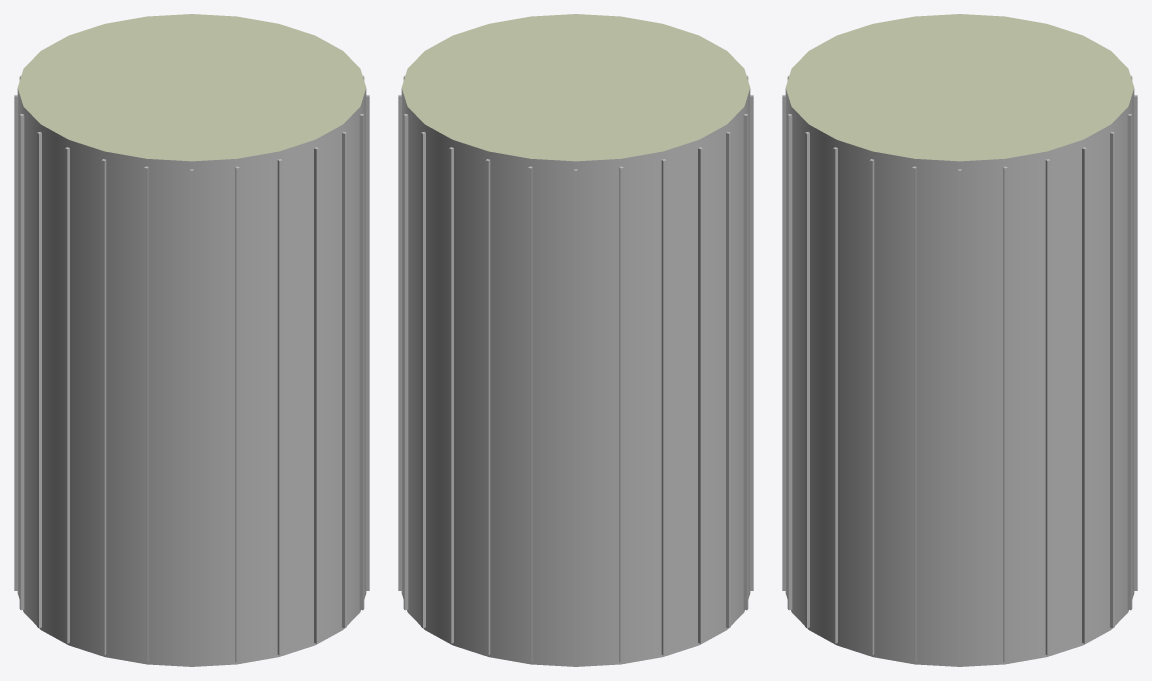
The model's file is ruby_engine_mount_s2_s1p2_2.obj.
The picture shows the model from 3 angles, left to right: view 1: azimuth 30°, elevation 25°; view 2: azimuth 150°, elevation 25°; view 3: azimuth 270°, elevation 25°; orthographic projection.
Parts seen in each view (by area): view 1: ruby_engine_mount_s2_s1p2_2_fairing_2, ruby_engine_mount_s2_s1p2_2_fairing_4, ruby_engine_mount_s2_s1p2_2_fairing_3, ruby_engine_mount_s2_s1p2_2_fairing_1, ruby_engine_mount_s2_s1p2_2; view 2: ruby_engine_mount_s2_s1p2_2_fairing_2, ruby_engine_mount_s2_s1p2_2_fairing_4, ruby_engine_mount_s2_s1p2_2_fairing_3, ruby_engine_mount_s2_s1p2_2_fairing_1, ruby_engine_mount_s2_s1p2_2; view 3: ruby_engine_mount_s2_s1p2_2_fairing_2, ruby_engine_mount_s2_s1p2_2_fairing_4, ruby_engine_mount_s2_s1p2_2_fairing_3, ruby_engine_mount_s2_s1p2_2_fairing_1, ruby_engine_mount_s2_s1p2_2.
Boxes of the visible parts, left/top/right/bottom form: ruby_engine_mount_s2_s1p2_2_fairing_2: left=14, top=79, right=369, bottom=413; ruby_engine_mount_s2_s1p2_2_fairing_4: left=14, top=215, right=369, bottom=666; ruby_engine_mount_s2_s1p2_2_fairing_3: left=14, top=97, right=369, bottom=540; ruby_engine_mount_s2_s1p2_2_fairing_1: left=14, top=75, right=369, bottom=287; ruby_engine_mount_s2_s1p2_2: left=17, top=14, right=366, bottom=165; ruby_engine_mount_s2_s1p2_2_fairing_2: left=398, top=93, right=753, bottom=413; ruby_engine_mount_s2_s1p2_2_fairing_4: left=398, top=214, right=753, bottom=666; ruby_engine_mount_s2_s1p2_2_fairing_3: left=398, top=97, right=753, bottom=540; ruby_engine_mount_s2_s1p2_2_fairing_1: left=398, top=75, right=753, bottom=287; ruby_engine_mount_s2_s1p2_2: left=401, top=14, right=750, bottom=165; ruby_engine_mount_s2_s1p2_2_fairing_2: left=782, top=78, right=1137, bottom=413; ruby_engine_mount_s2_s1p2_2_fairing_4: left=782, top=214, right=1137, bottom=666; ruby_engine_mount_s2_s1p2_2_fairing_3: left=782, top=96, right=1137, bottom=540; ruby_engine_mount_s2_s1p2_2_fairing_1: left=782, top=75, right=1137, bottom=287; ruby_engine_mount_s2_s1p2_2: left=785, top=14, right=1134, bottom=165.
Size of the model in its own units: 2.55 by 4 by 2.55.
